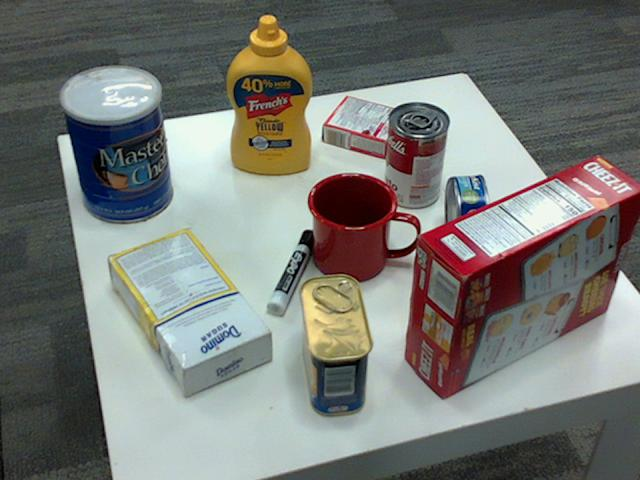cracker_box: (403, 153, 639, 396)
gelatin_box: (324, 95, 409, 156)
large_marker: (264, 231, 316, 320)
master_chef_can: (57, 66, 170, 224)
mug: (306, 169, 417, 279)
mustard_bottle: (225, 15, 311, 174)
potted_meat_can: (299, 275, 374, 415)
sugar_box: (105, 226, 269, 391)
tomato_soup_can: (383, 102, 448, 208)
tuna_fish_can: (443, 174, 488, 253)
